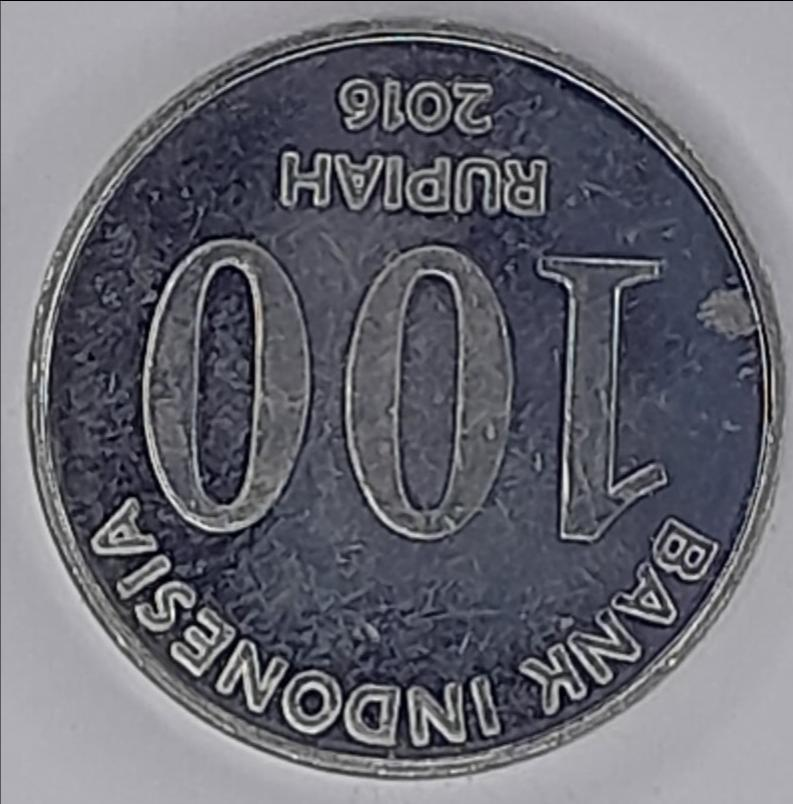coin_100_e2016: (21, 13, 789, 781)
